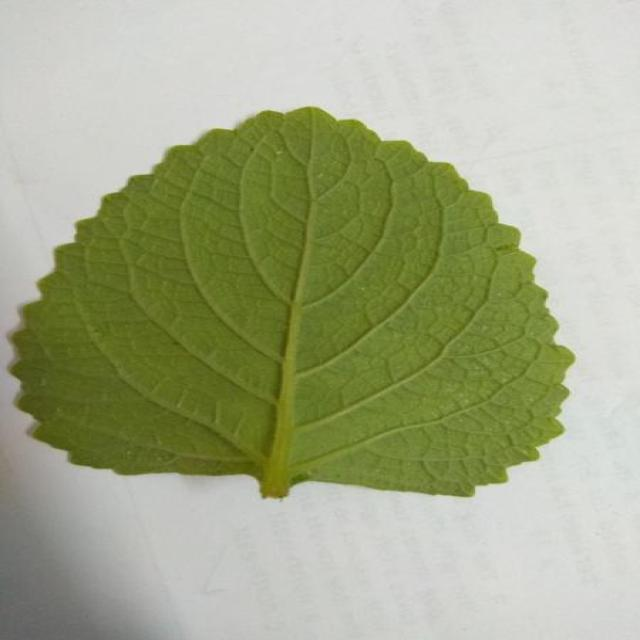doddpathre: (12, 108, 573, 498)
